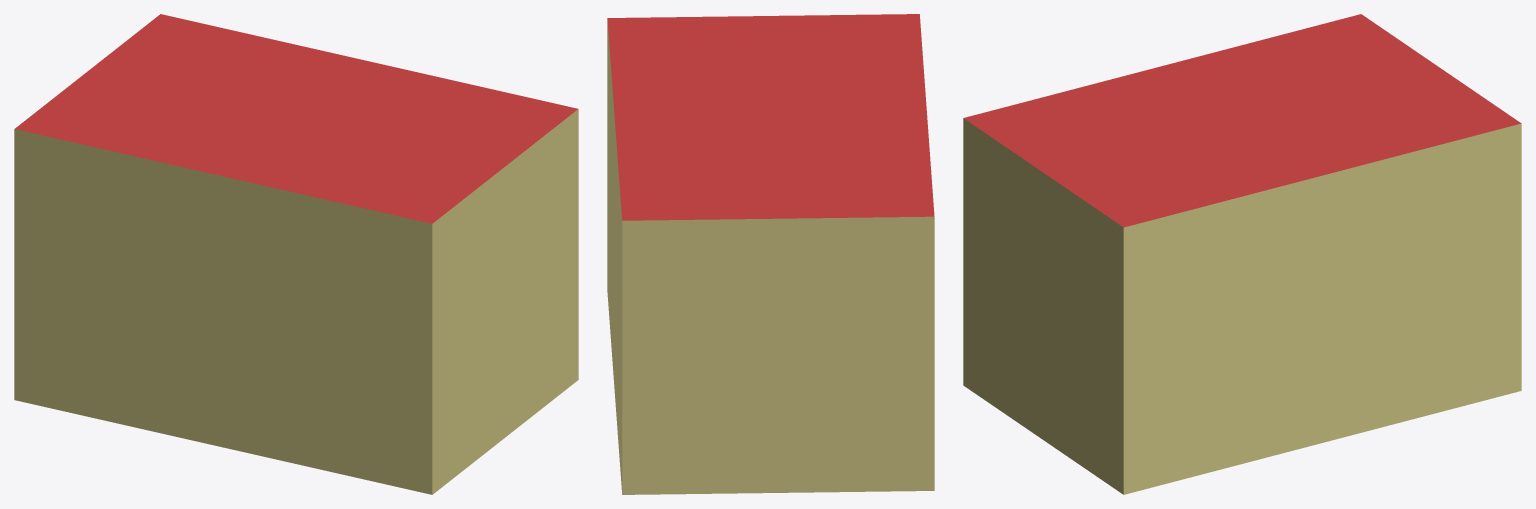
3 views of the same model, side by side, from view 1: azimuth 30°, elevation 25°; view 2: azimuth 150°, elevation 25°; view 3: azimuth 270°, elevation 25° (orthographic). The views are drawn at different scales.
Bounding box in the file's own units: 9.59 × 10.59 × 5.6.
